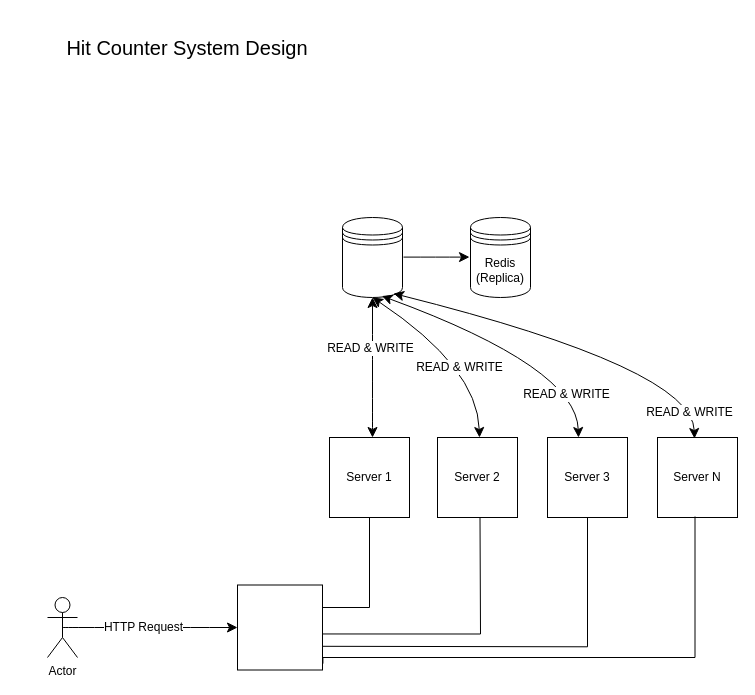
Some shapes in this 755 by 695 pixel diagram are drawn without their labels. Each missing label, with the centre of its shape:
Load Balancer: point 279,627
Redis (Master): point 372,257
